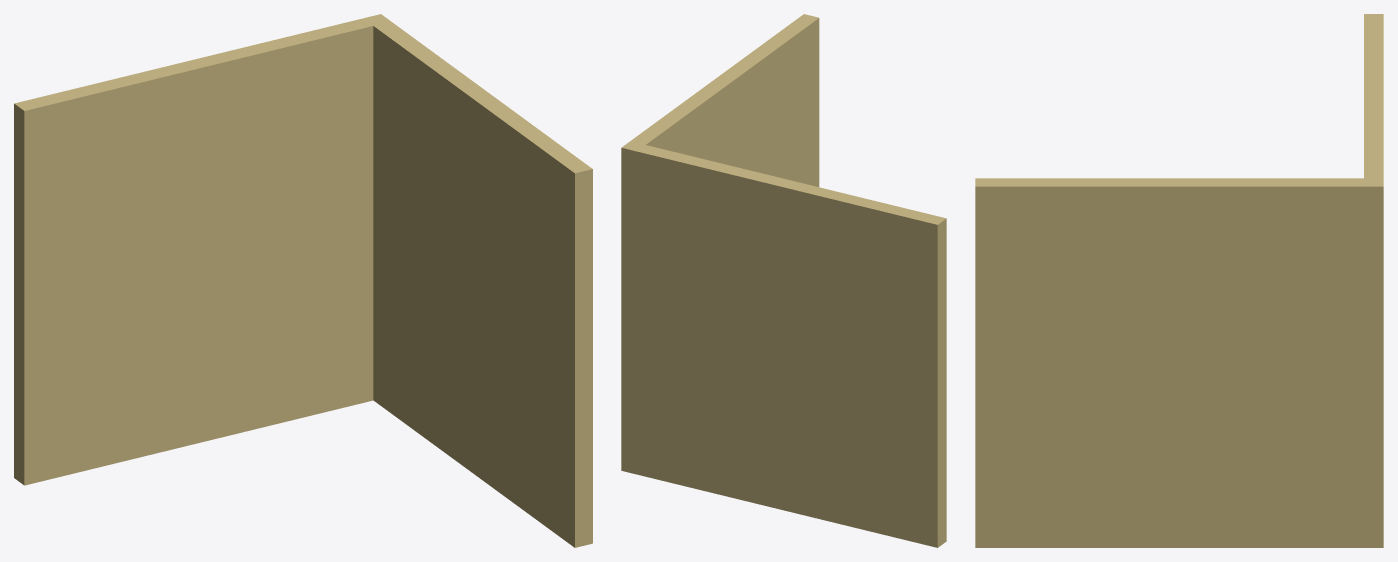
Rendered from Wal_6_Corner_A.fbx.
3 views of the same model, side by side, from view 1: azimuth 30°, elevation 25°; view 2: azimuth 150°, elevation 25°; view 3: azimuth 270°, elevation 25° (orthographic). The views are drawn at different scales.
Parts seen in each view (by area): view 1: polySurface38; view 2: polySurface38; view 3: polySurface38.
Boxes of the visible parts, x1=… form: polySurface38: x1=14, y1=14, x2=592, y2=547; polySurface38: x1=621, y1=14, x2=946, y2=547; polySurface38: x1=975, y1=14, x2=1383, y2=547.
Bounding box in the file's own units: 4.1 × 4 × 4.1.
1 material, 1 textured.
